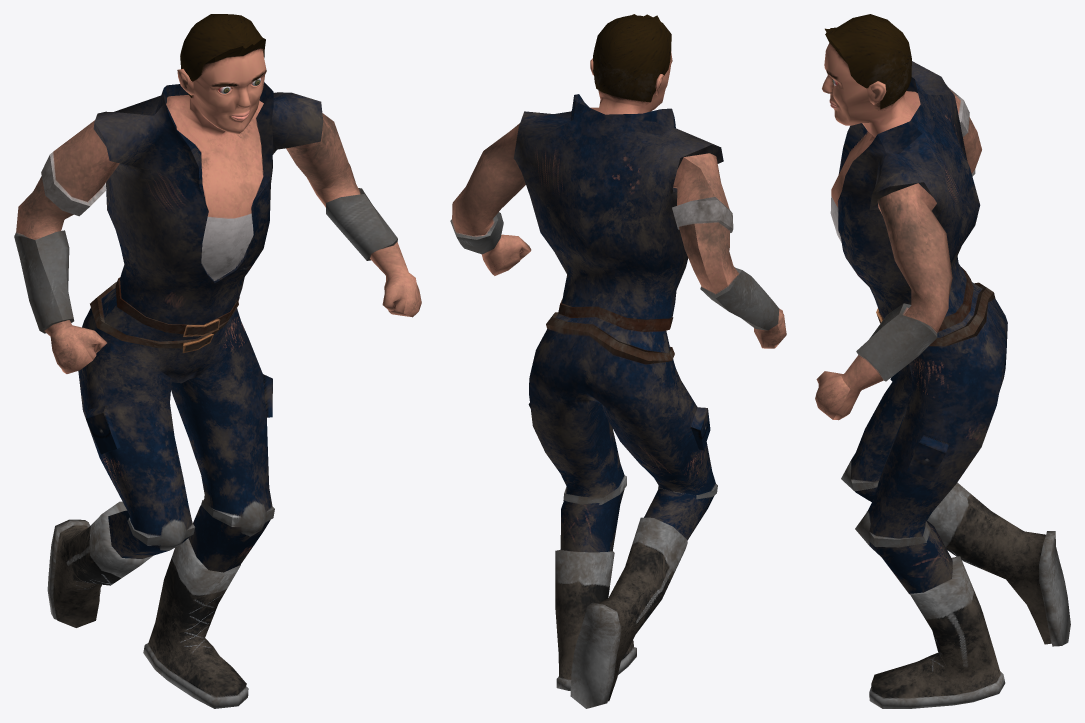
Rendered from Anim_correr_jugador.0038.obj.
3 views of the same model, side by side, from view 1: azimuth 30°, elevation 25°; view 2: azimuth 150°, elevation 25°; view 3: azimuth 270°, elevation 25° (orthographic). The views are drawn at different scales.
Visible parts, largest first — view 1: Anim_correr_jugador; view 2: Anim_correr_jugador; view 3: Anim_correr_jugador.
Boxes of the visible parts, x1,y1,x2,y2 form: Anim_correr_jugador: [14, 14, 421, 708]; Anim_correr_jugador: [450, 14, 786, 708]; Anim_correr_jugador: [815, 14, 1070, 708].
Size of the model in its own units: 4.82 by 9.13 by 3.14.
